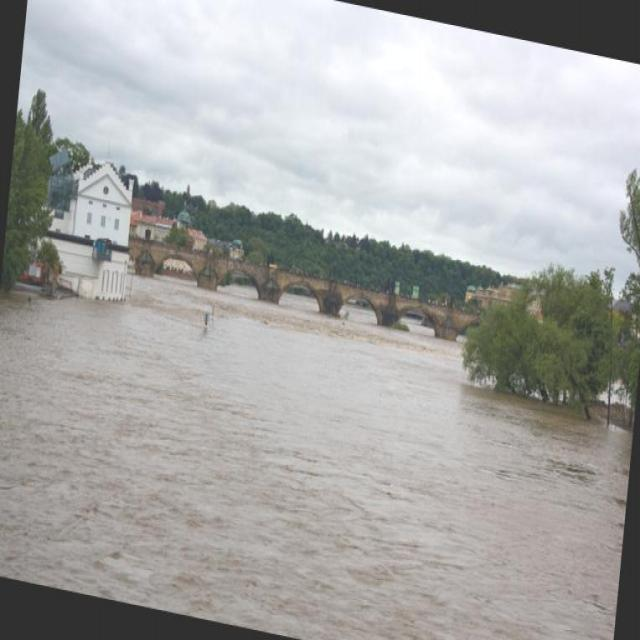flood: (0, 210, 639, 639)
